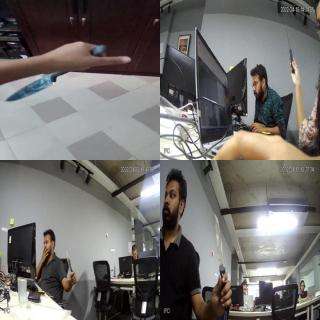knife: (3, 81, 59, 105), (211, 211, 226, 281), (285, 22, 293, 61), (64, 249, 76, 274)
